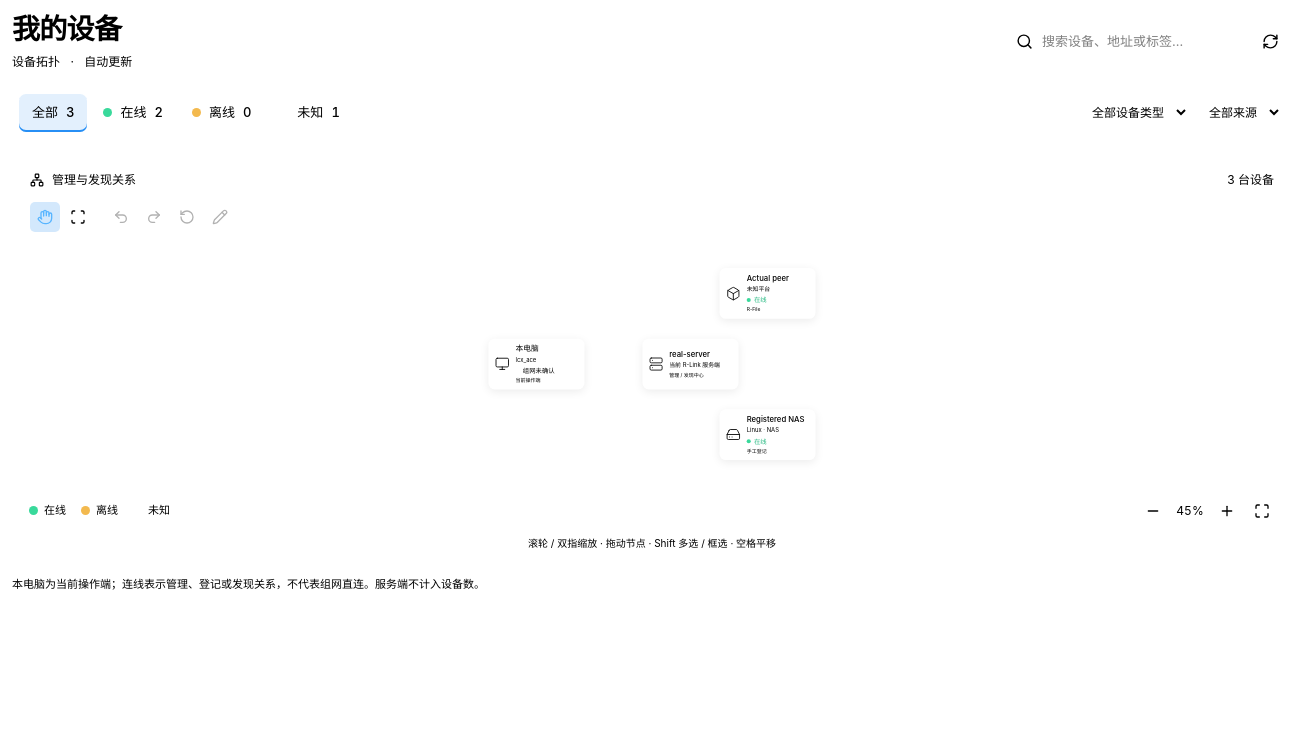
Scenario: clears stale failed inventory but retains independently loaded R-File peers
Click the button with aria-label "查看设备：Registered NAS" at {"x": 768, "y": 434}, box [720, 409, 816, 460]
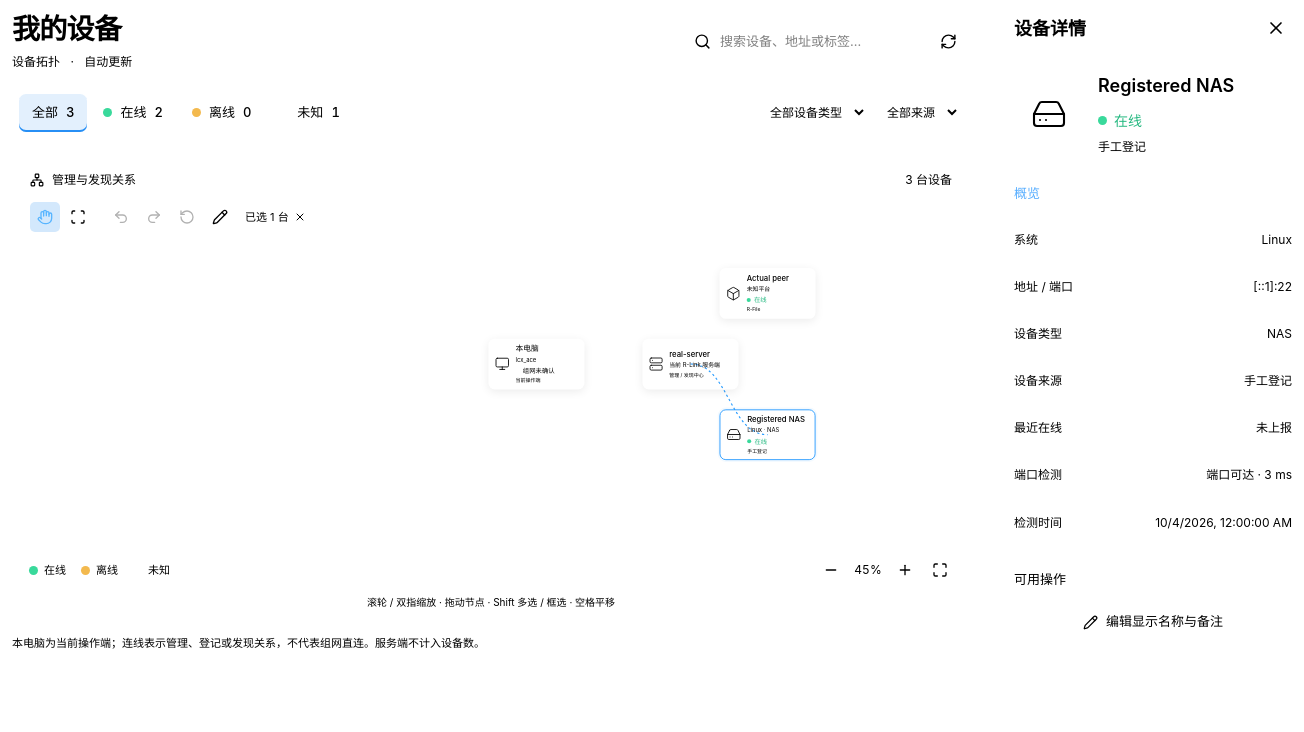
Click the button named "刷新状态" at {"x": 948, "y": 42}, box [927, 23, 970, 60]
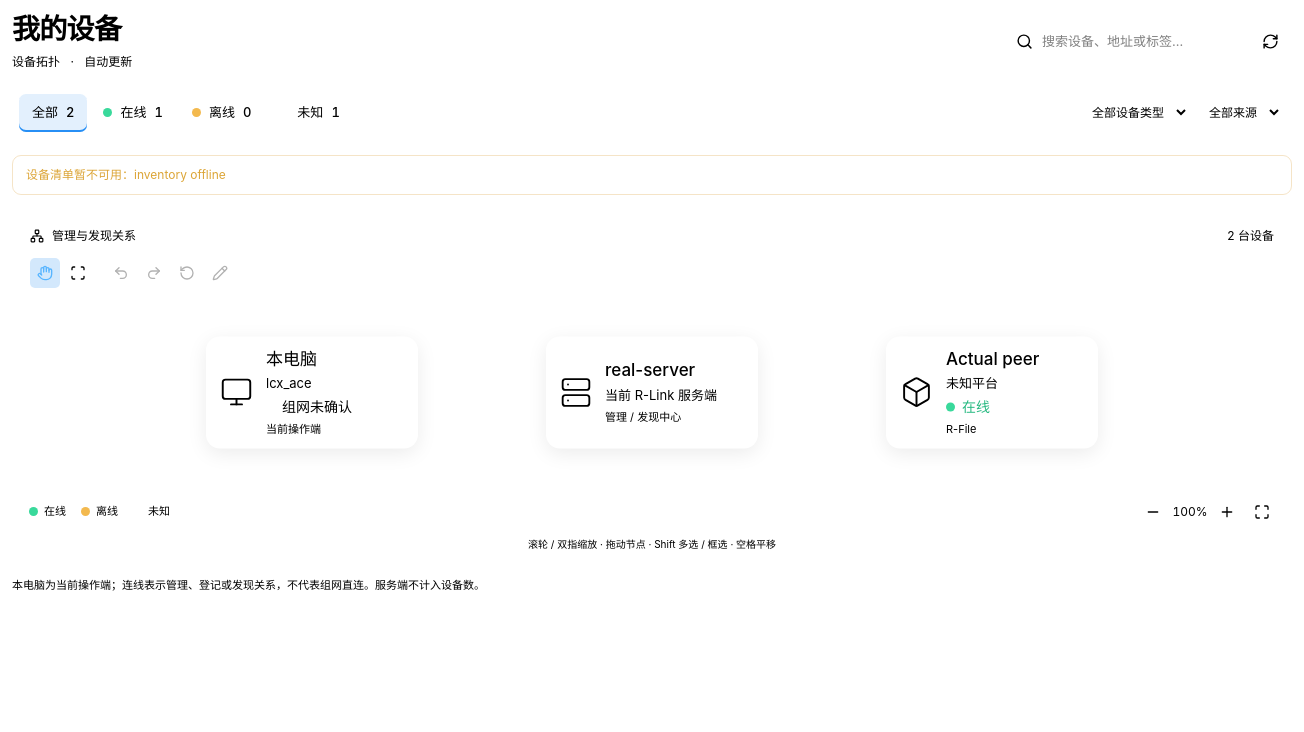
Check: the button with aria-label "查看设备：Actual peer" is shown, box [886, 336, 1098, 448]
Check: the message shows "inventory offline", box [134, 166, 226, 182]
